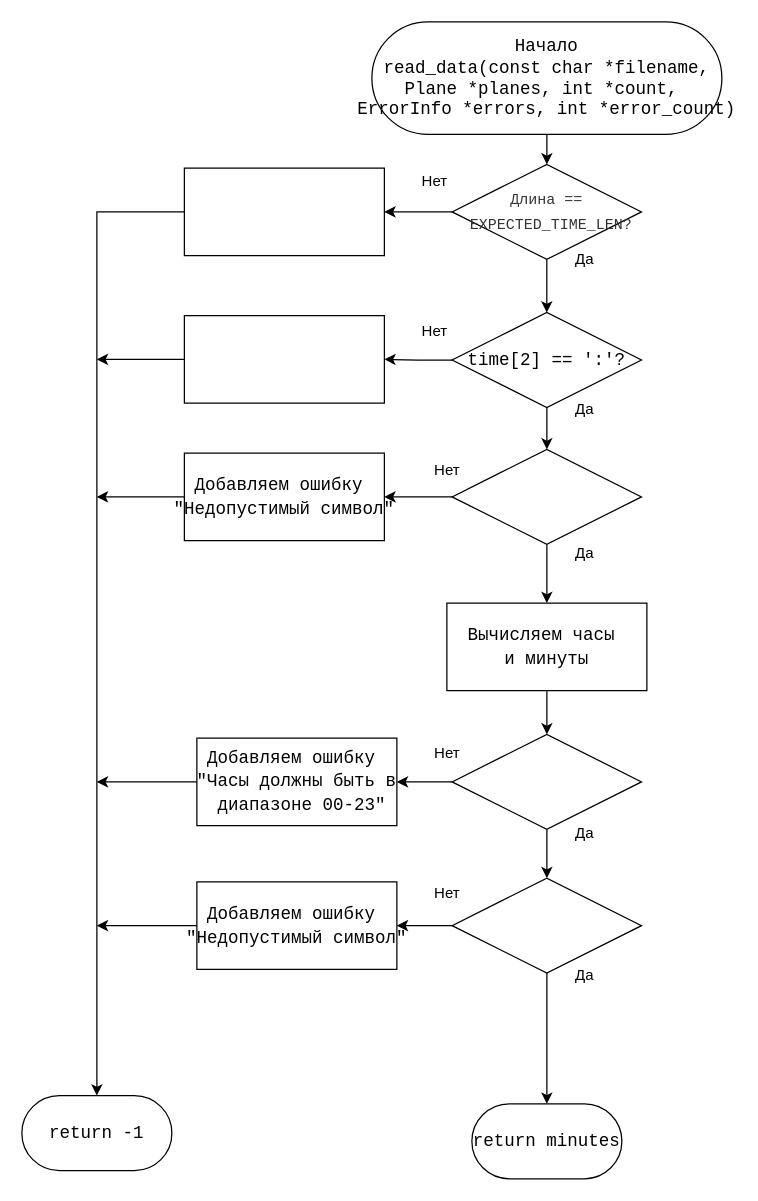
Some shapes in this 758 by 1201 pixel diagram are drawn without their labels. The shapes that lost their labels are listed below. From the top down, each one's centre as x and y in pixels, then its label:
point (283, 211): Добавляем ошибку " Неправильная длина "
point (283, 358): Добавляем ошибку " Неправильный разделитель "
point (546, 496): Все символы цифры (кроме позиции 2)?
point (546, 781): 0 <= hours < 24?
point (546, 925): 0 <= minutes < 60?
